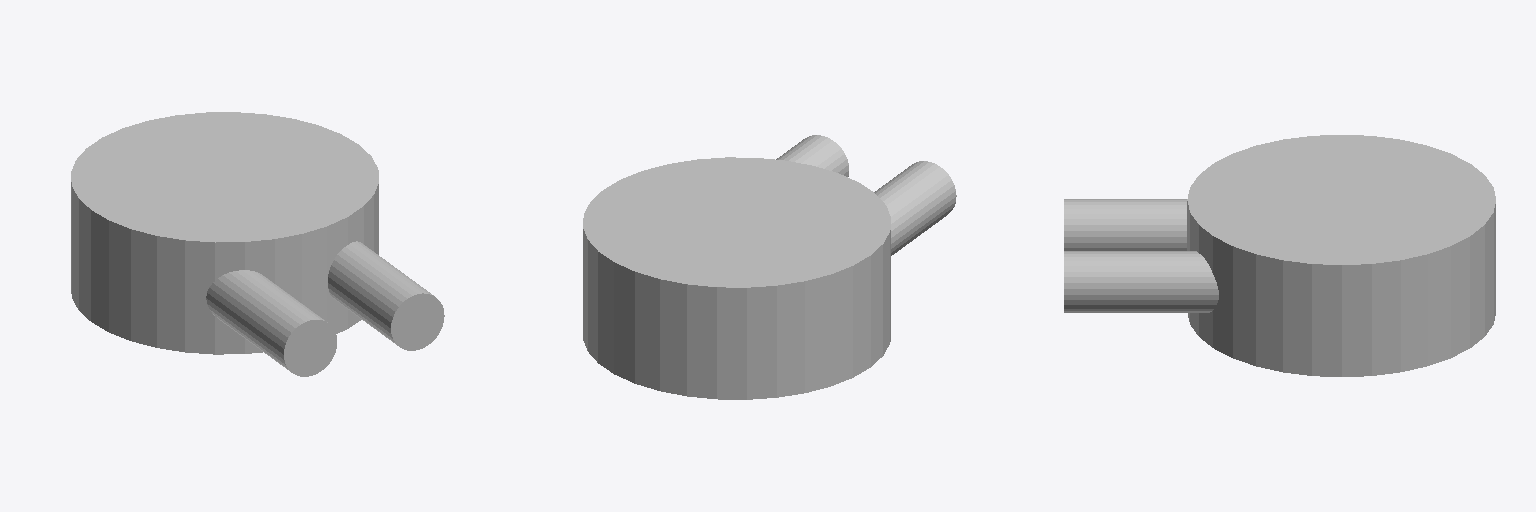
Rendered from Turret_Version_01.obj.
The picture shows the model from 3 angles: view 1: azimuth 30°, elevation 25°; view 2: azimuth 150°, elevation 25°; view 3: azimuth 270°, elevation 25°; orthographic projection.
Parts seen in each view (by area): view 1: Turret_Cylinder; view 2: Turret_Cylinder; view 3: Turret_Cylinder.
Part boxes in pixels (left/top/right/bottom): Turret_Cylinder: left=71, top=112, right=444, bottom=376; Turret_Cylinder: left=583, top=135, right=956, bottom=399; Turret_Cylinder: left=1064, top=135, right=1495, bottom=376.
Bounding box in the file's own units: 0.5 × 0.2 × 0.7.